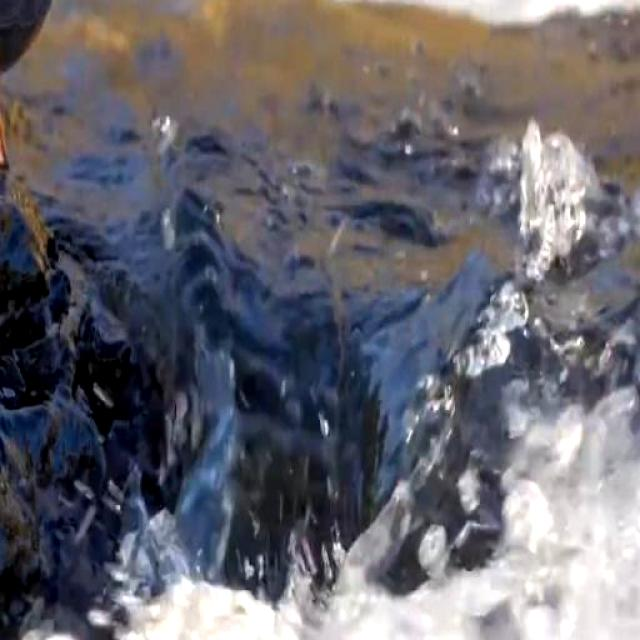airplane: (0, 0, 91, 159)
